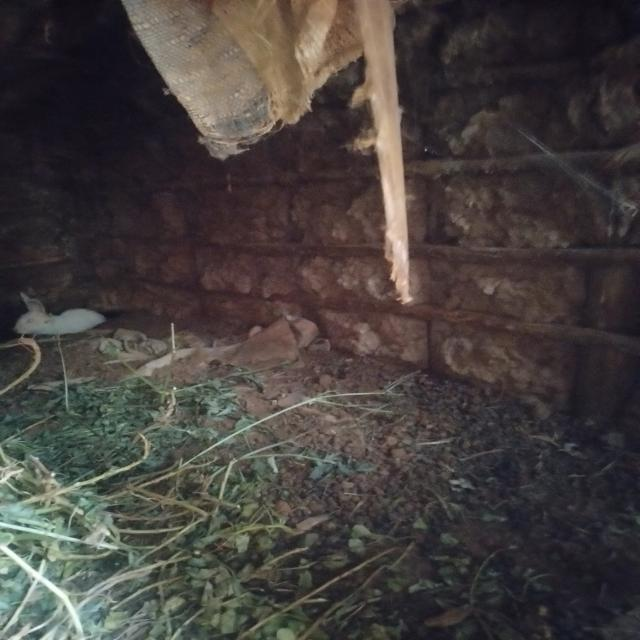rabbit: (1, 276, 136, 373)
